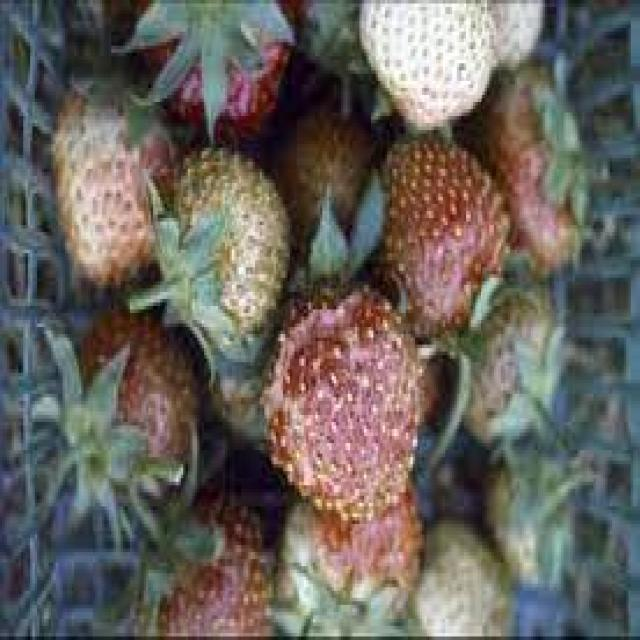Podredumbre de cuero: (264, 304, 416, 510), (368, 124, 509, 304), (65, 311, 196, 498), (49, 80, 164, 286), (174, 164, 290, 328), (138, 509, 272, 636), (298, 510, 418, 622), (282, 106, 366, 227), (476, 306, 550, 431), (516, 140, 576, 258), (208, 340, 266, 444), (503, 72, 561, 146)
